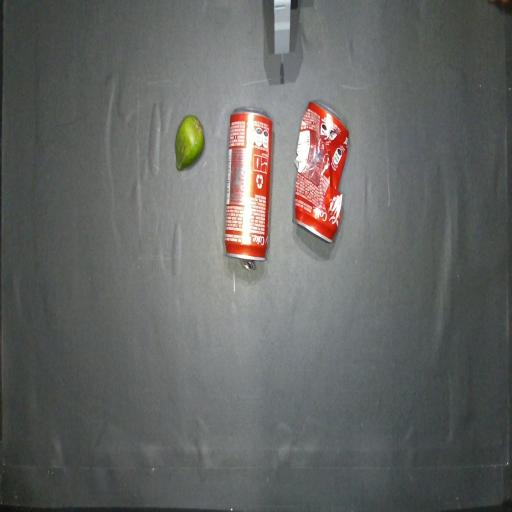higo: (175, 115, 204, 170)
lata: (225, 108, 273, 270)
lata_defectuoso: (295, 101, 349, 242)
